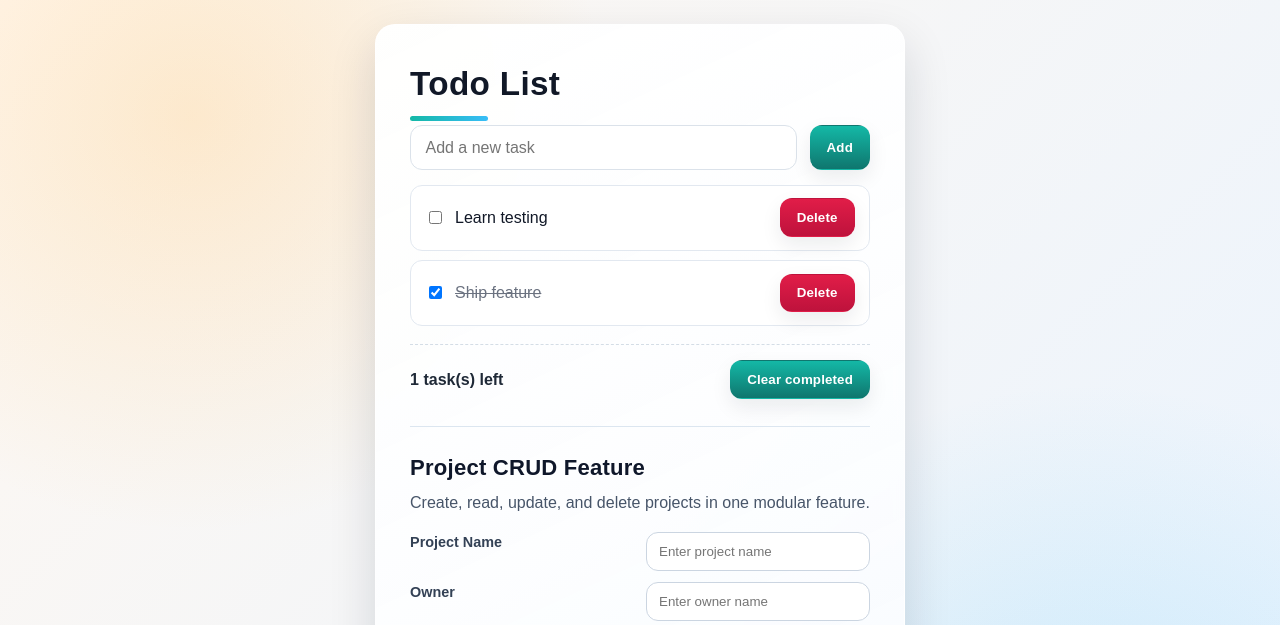
Test: App › adds a task with trimmed text and shows success
Expected: the text "Learn testing" is shown, [455,206,548,230]
In the field labelled "Add a new task": [604, 148] box [410,126,797,170], type "  New valid task  "
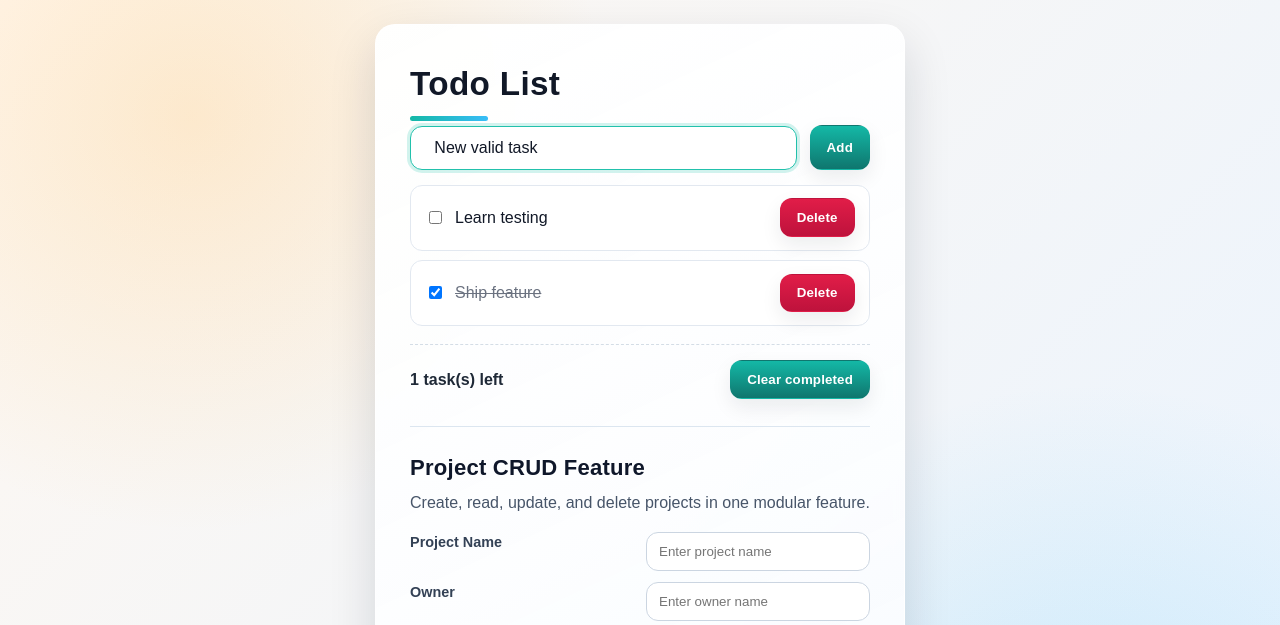
Click the button "Add": [840, 148] box [810,126,870,170]
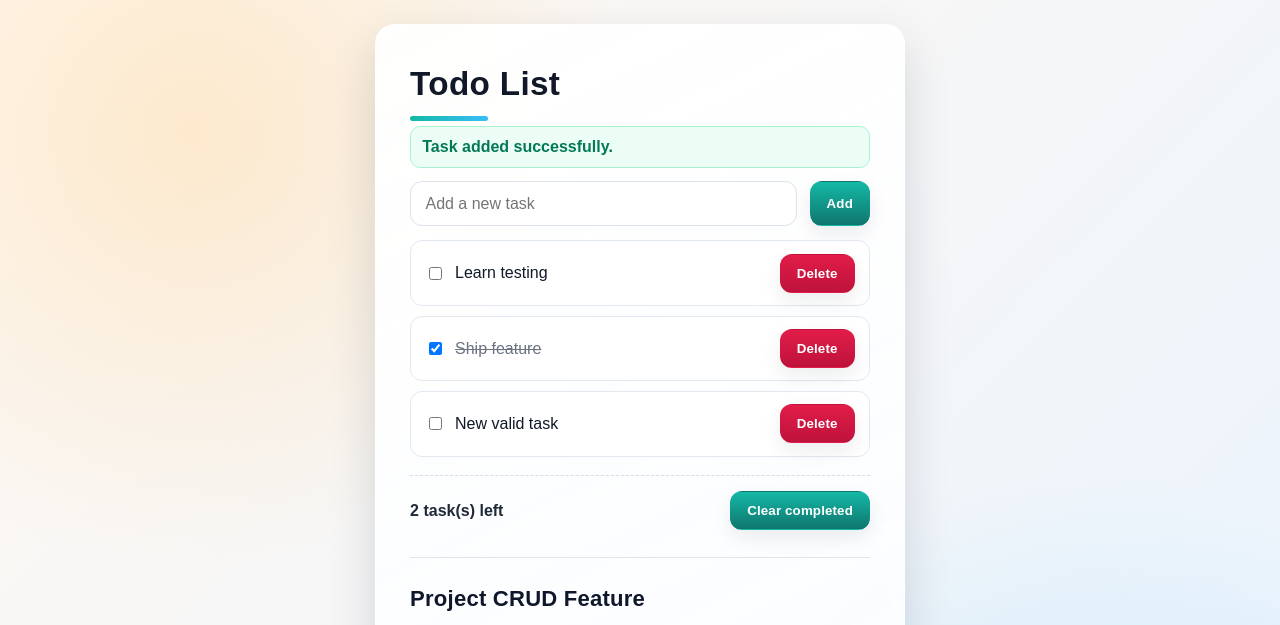
Expected: the text "Task added successfully." is shown, [410,126,870,168]
Expected: the field labelled "Add a new task" is empty, [410,181,797,226]
